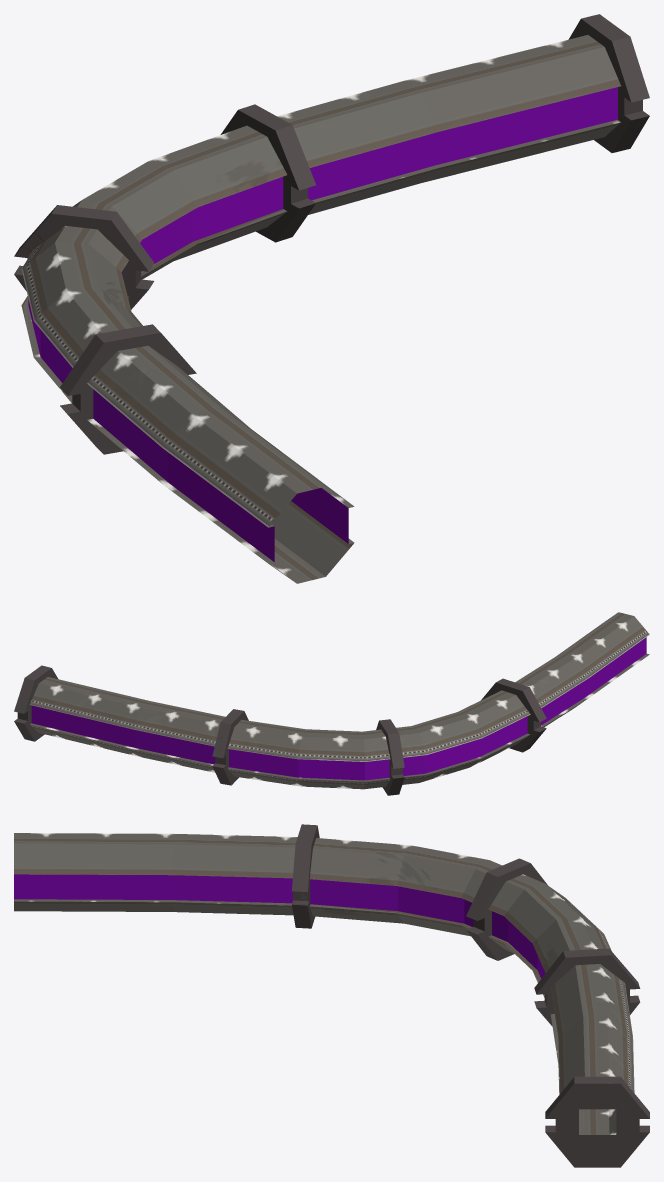
File: KF_Train_Rail_Curved.fbx
The picture shows the model from 3 angles, top to bottom: view 1: azimuth 30°, elevation 25°; view 2: azimuth 150°, elevation 25°; view 3: azimuth 270°, elevation 25°; orthographic projection. The views are drawn at different scales.
Visible parts, largest first — view 1: KF_Train_Rail_Curved; view 2: KF_Train_Rail_Curved; view 3: KF_Train_Rail_Curved.
Boxes of the visible parts, x1,y1,x2,y2 form: KF_Train_Rail_Curved: (14,14,649,583); KF_Train_Rail_Curved: (14,612,649,795); KF_Train_Rail_Curved: (14,824,649,1167).
Bounding box in the file's own units: 2152 × 311 × 2130.
2 materials, 1 textured.
